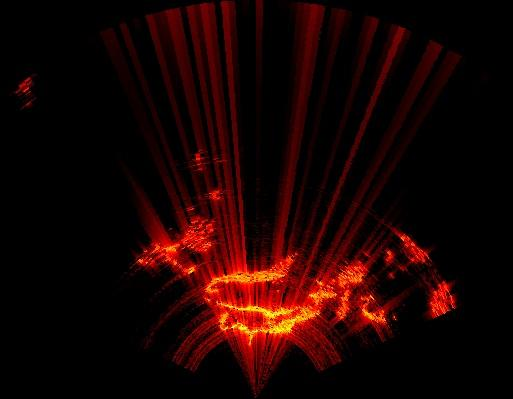shipwreck: (215, 262, 365, 343), (205, 255, 294, 303), (136, 221, 212, 273), (429, 282, 453, 315), (363, 295, 384, 323)
